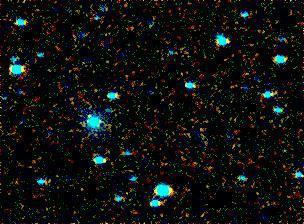star: (73, 103, 103, 133)
